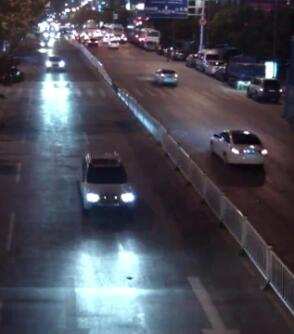bus: (133, 25, 161, 50), (99, 22, 124, 41), (125, 24, 137, 41)
car: (79, 152, 134, 216), (209, 128, 269, 171), (226, 53, 265, 89), (245, 76, 284, 102), (154, 67, 180, 86), (196, 49, 218, 70), (204, 58, 224, 76), (44, 55, 66, 70), (37, 36, 54, 49), (184, 51, 198, 66), (170, 48, 185, 62), (107, 36, 120, 49), (87, 35, 99, 46), (160, 46, 170, 57)
